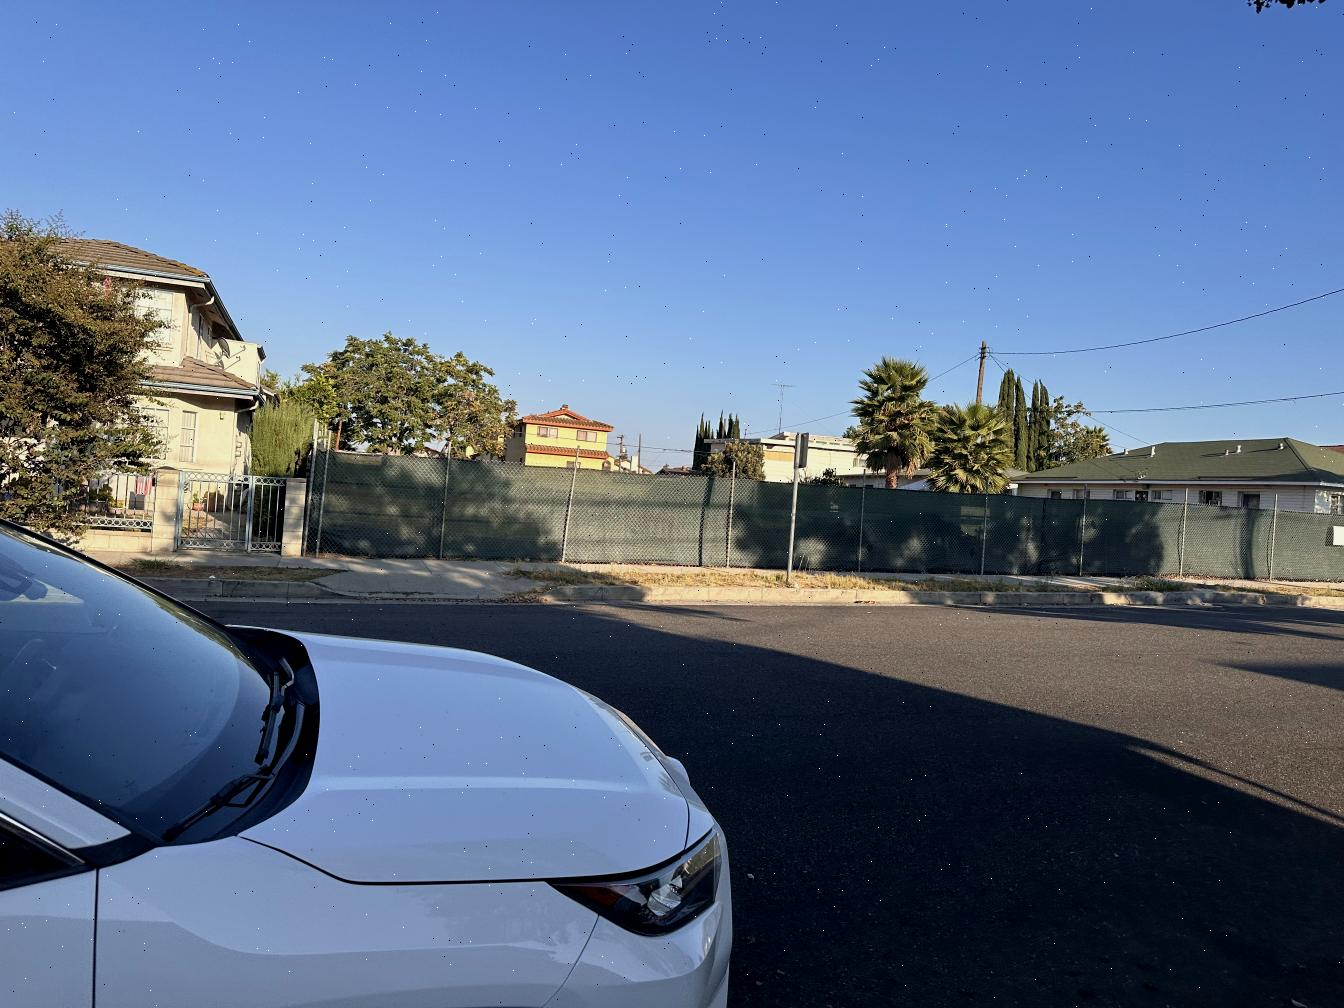curbs-laRr: (906, 588, 1341, 612), (567, 582, 895, 607), (188, 576, 315, 601)
